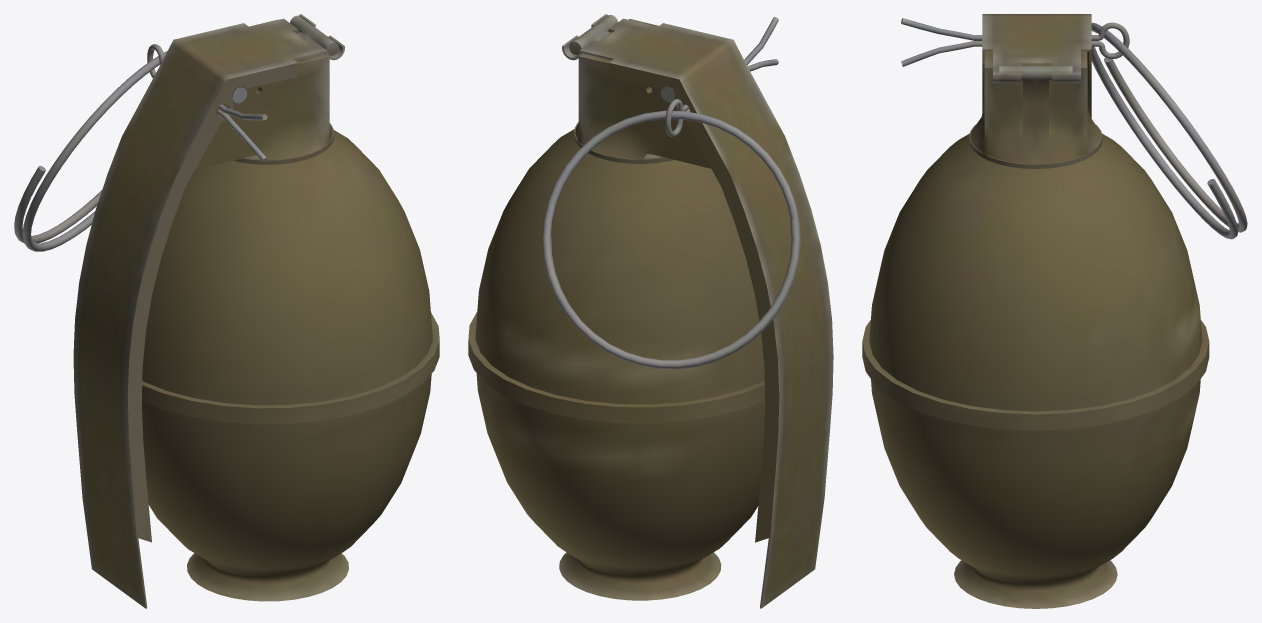
Rendered from grenade.glb.
3 views of the same model, side by side, from view 1: azimuth 30°, elevation 25°; view 2: azimuth 150°, elevation 25°; view 3: azimuth 270°, elevation 25° (orthographic).
Visible parts, largest first — view 1: ring_low_uv_0; view 2: ring_low_uv_0; view 3: ring_low_uv_0.
Boxes of the visible parts, box(x1,y1,x2,y2) form: ring_low_uv_0: box(14, 14, 439, 608); ring_low_uv_0: box(468, 14, 833, 608); ring_low_uv_0: box(862, 14, 1247, 608).
Size of the model in its own units: 0.0689 by 0.099 by 0.0651.
Materials: 1 (1 with a texture image).
